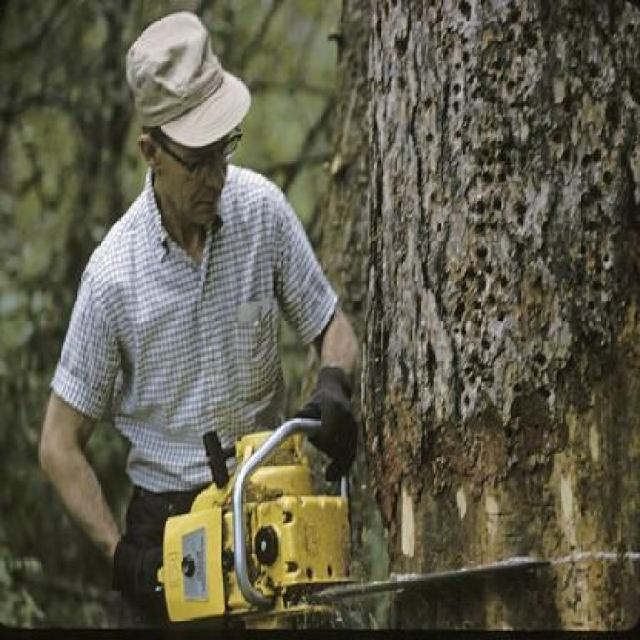Chainsaw: (157, 406, 552, 636)
